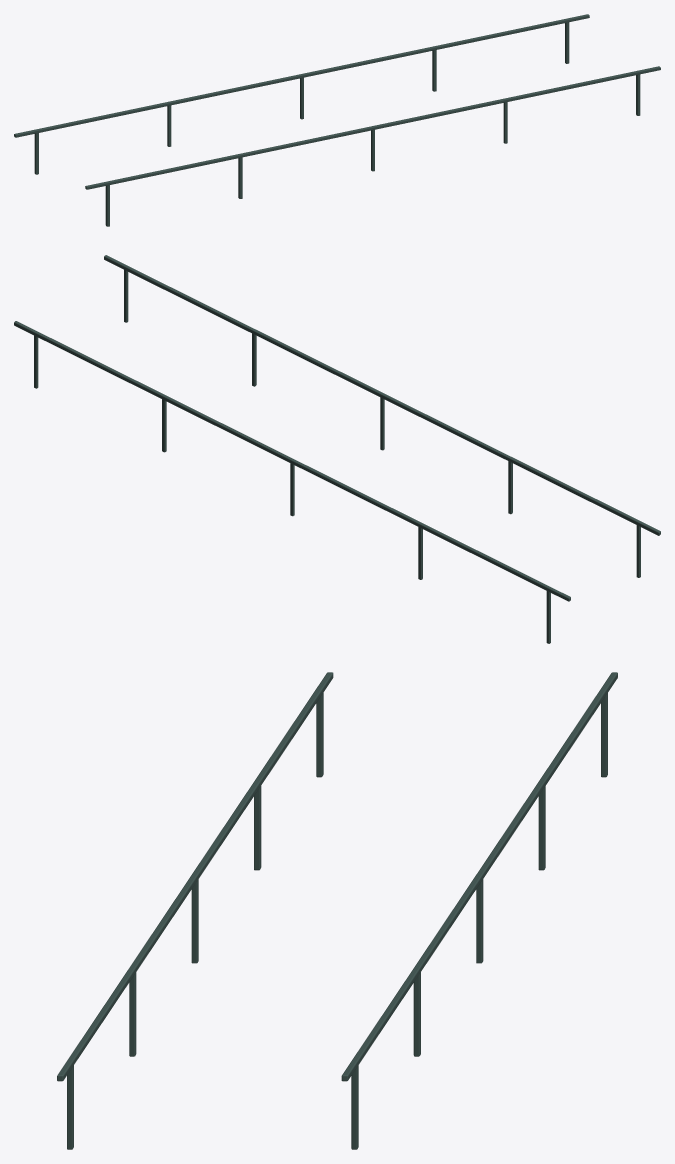
Rendered from SM_Railings.fbx.
3 views of the same model, one above another, from view 1: azimuth 30°, elevation 25°; view 2: azimuth 150°, elevation 25°; view 3: azimuth 270°, elevation 25° (orthographic). The views are drawn at different scales.
Visible parts, largest first — view 1: SM_Railings; view 2: SM_Railings; view 3: SM_Railings.
Boxes of the visible parts, x1,y1,x2,y2 form: SM_Railings: (14, 14, 660, 226); SM_Railings: (14, 255, 660, 643); SM_Railings: (57, 672, 617, 1149).
Bounding box in the file's own units: 1300 × 623 × 216.
